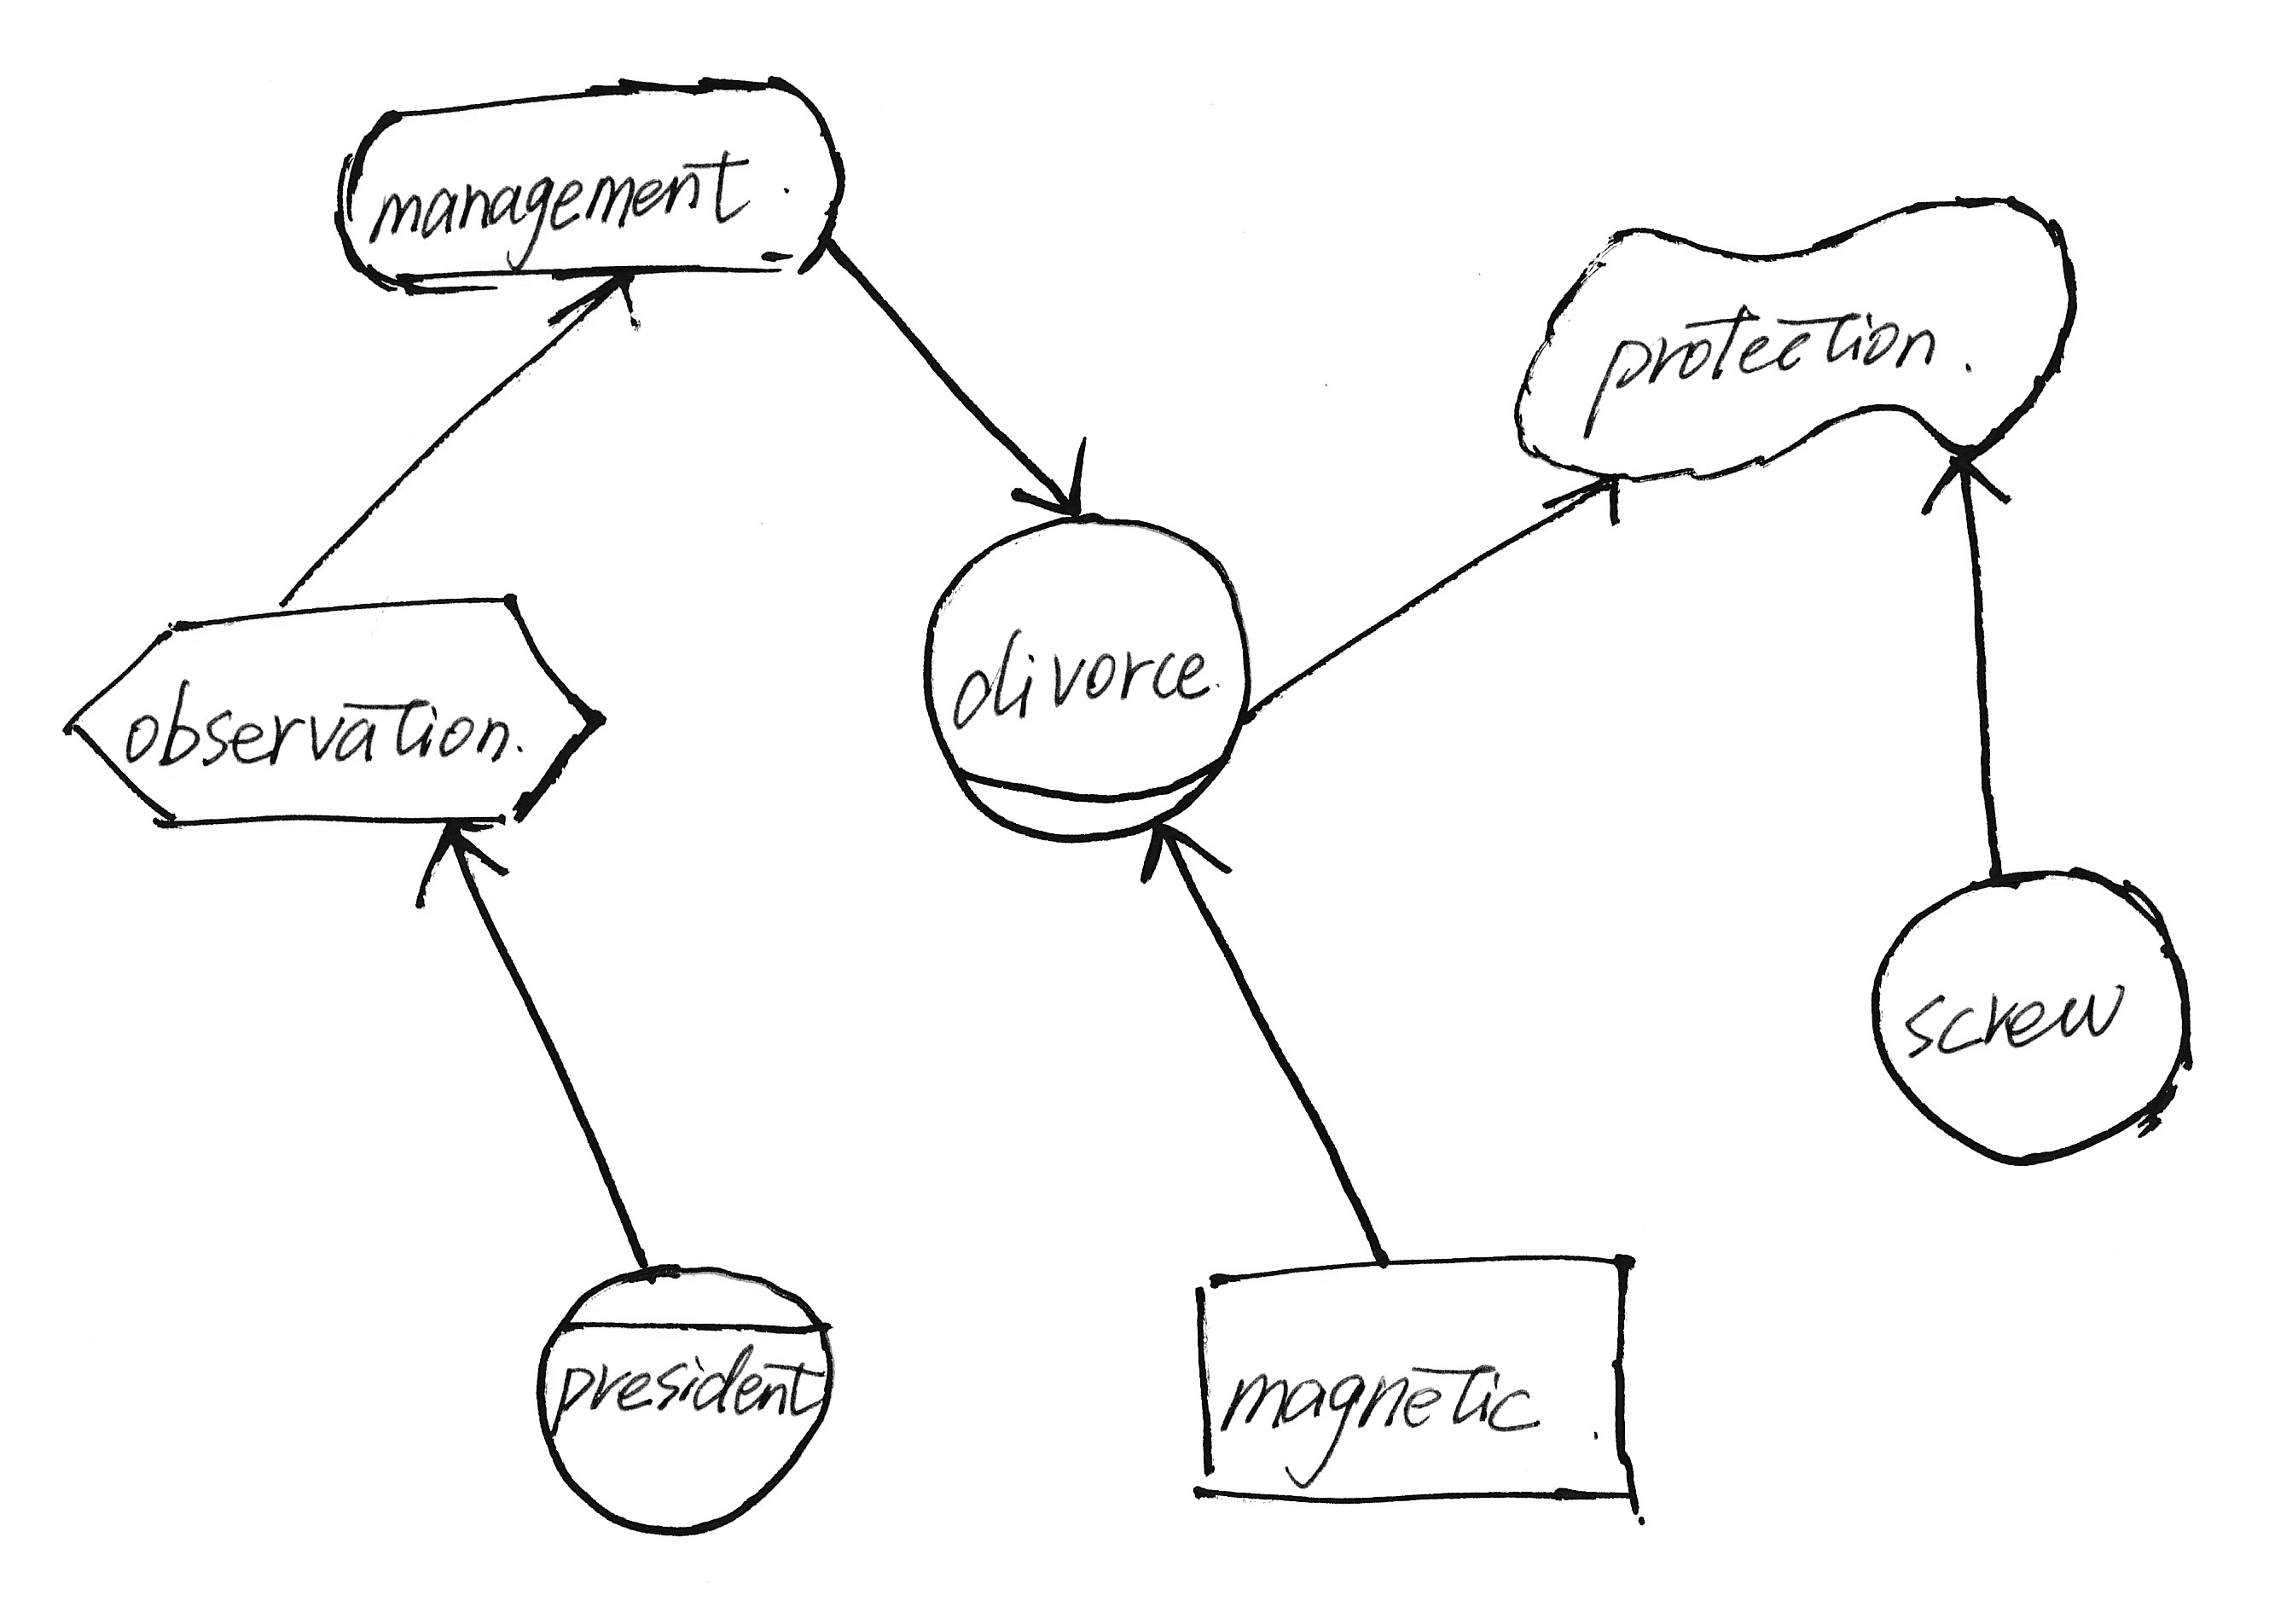actor: (1858, 849, 2213, 1179)
agent: (513, 1241, 847, 1547)
arrow: (403, 810, 524, 910), (1127, 807, 1241, 898), (1007, 429, 1104, 534), (1915, 434, 2017, 527), (545, 257, 649, 341), (1524, 464, 1640, 538)
goal: (318, 53, 867, 302)
quality: (1500, 178, 2106, 506)
resource: (1173, 1234, 1665, 1524)
role: (902, 499, 1276, 863)
task: (37, 580, 619, 847)
